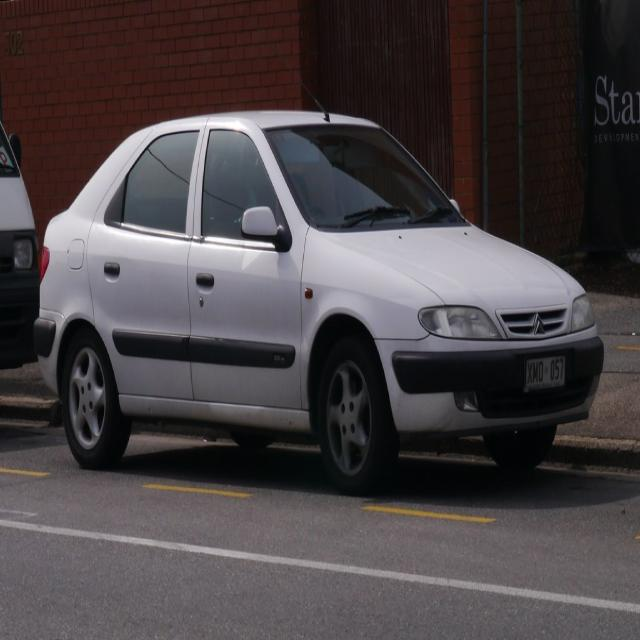car: (31, 80, 604, 496)
